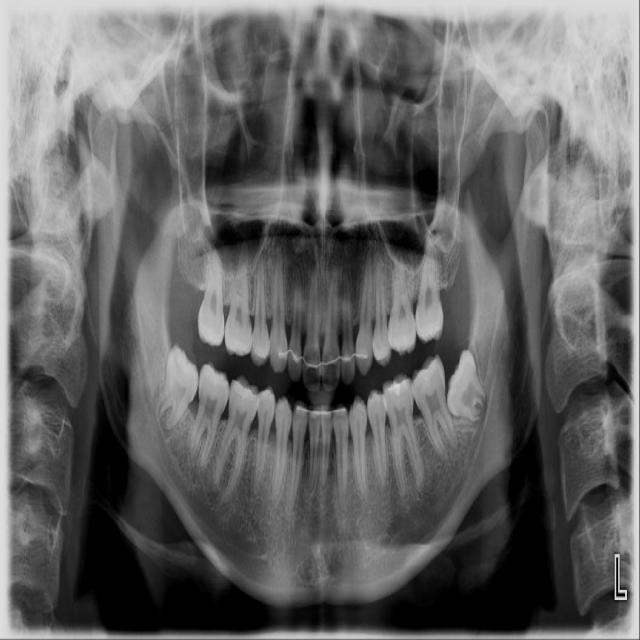Filling: (385, 377, 410, 397)
impacted tooth: (158, 345, 200, 432), (447, 349, 485, 422)
